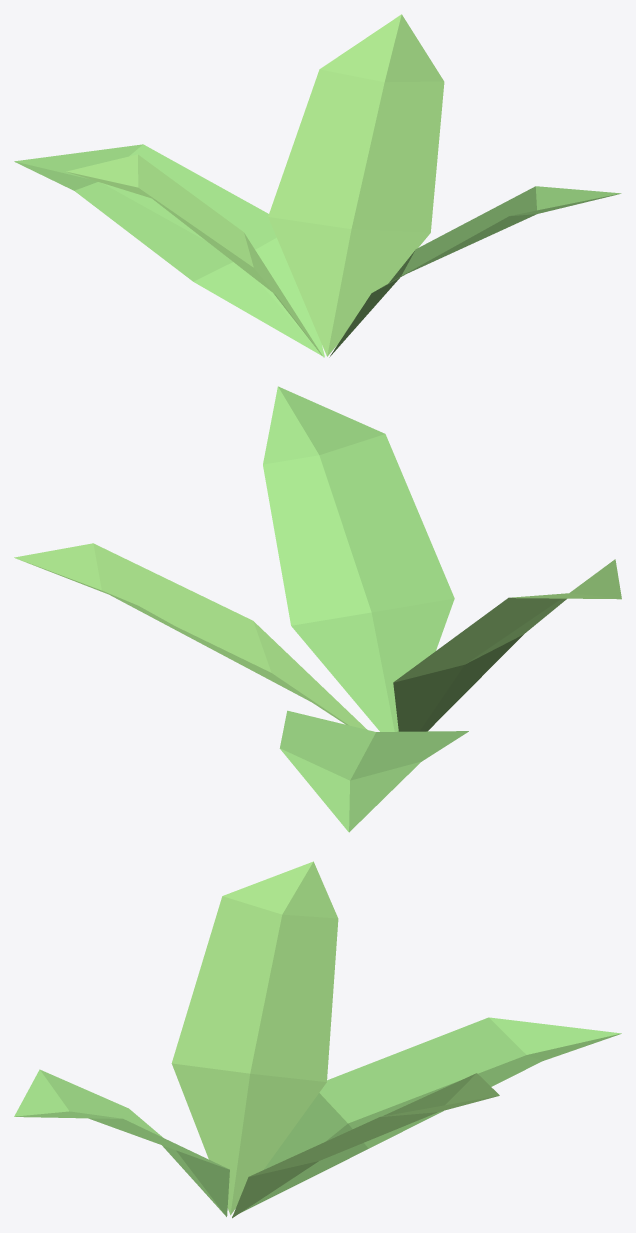
Rendered from Plant_k_TwoS_04.fbx.
The picture shows the model from 3 angles, top to bottom: view 1: azimuth 30°, elevation 25°; view 2: azimuth 150°, elevation 25°; view 3: azimuth 270°, elevation 25°; orthographic projection. The views are drawn at different scales.
Visible parts, largest first — view 1: Plant_k_TwoS_04; view 2: Plant_k_TwoS_04; view 3: Plant_k_TwoS_04.
Part boxes in pixels (box(x1,y1,x2,y2)): Plant_k_TwoS_04: box(14, 14, 621, 357); Plant_k_TwoS_04: box(14, 386, 621, 832); Plant_k_TwoS_04: box(14, 861, 621, 1218).
Bounding box in the file's own units: 34.3 × 16.62 × 38.78.
